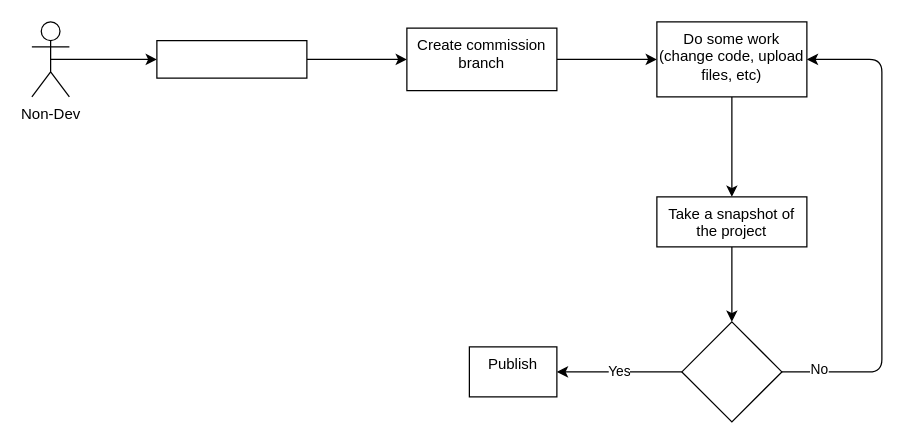
Image size: 914x444. Some labels were removed from this diagram. Each missing label, with the box of its shape:
Checkout Project: (156, 39, 307, 78)
Done?: (681, 321, 782, 422)
